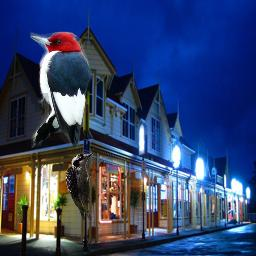Woodpecker: (30, 28, 93, 151), (63, 149, 97, 224)
